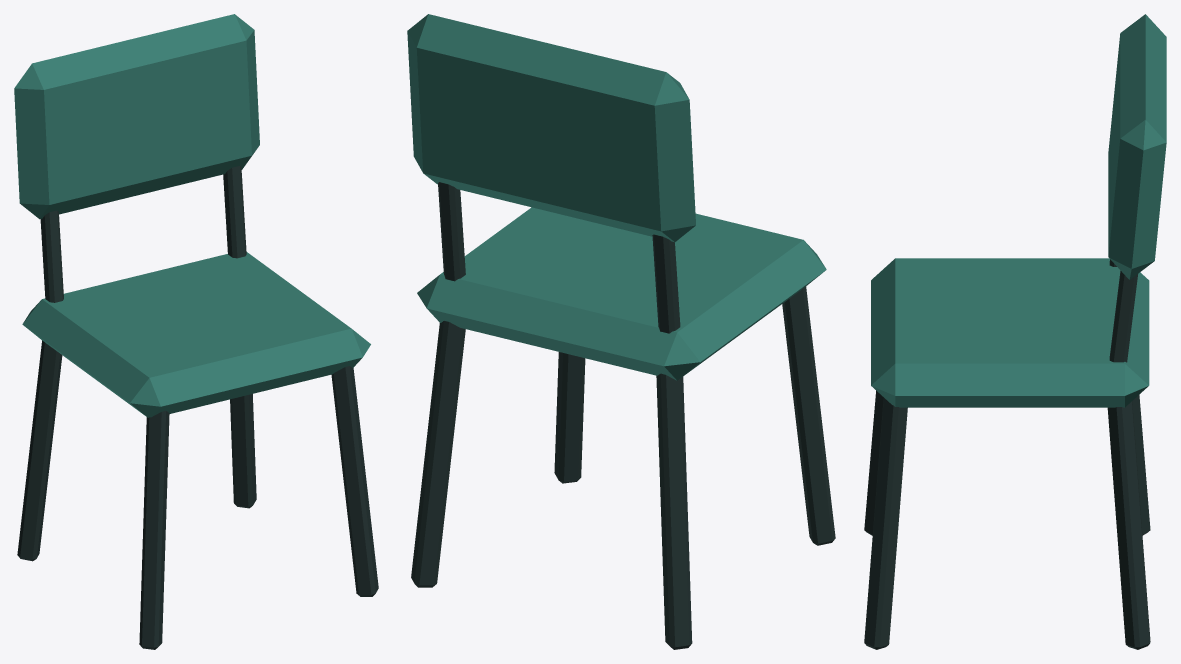
The model's file is student_chair.glb.
The picture shows the model from 3 angles, left to right: view 1: azimuth 30°, elevation 25°; view 2: azimuth 150°, elevation 25°; view 3: azimuth 270°, elevation 25°; orthographic projection. The views are drawn at different scales.
Parts seen in each view (by area): view 1: Encosto, Assento, Pé tubular.004, Pé tubular.006, Pé tubular.005, Pé tubular.007, Suporte do encosto.001, Suporte do encosto; view 2: Encosto, Assento, Pé tubular.005, Pé tubular.007, Pé tubular.004, Pé tubular.006, Suporte do encosto, Suporte do encosto.001; view 3: Assento, Encosto, Pé tubular.006, Pé tubular.007, Suporte do encosto.001, Pé tubular.004, Pé tubular.005.
Boxes of the visible parts, <box> form: Encosto: <box>14,14,259,219</box>; Assento: <box>22,252,370,417</box>; Pé tubular.004: <box>139,410,169,649</box>; Pé tubular.006: <box>331,366,378,596</box>; Pé tubular.005: <box>17,340,62,561</box>; Pé tubular.007: <box>230,394,256,508</box>; Suporte do encosto.001: <box>223,166,246,258</box>; Suporte do encosto: <box>40,210,63,302</box>; Encosto: <box>407,14,695,242</box>; Assento: <box>417,207,826,380</box>; Pé tubular.005: <box>656,373,692,649</box>; Pé tubular.007: <box>411,321,465,587</box>; Pé tubular.004: <box>782,286,835,545</box>; Pé tubular.006: <box>554,352,585,483</box>; Suporte do encosto: <box>652,234,680,333</box>; Suporte do encosto.001: <box>438,182,465,281</box>; Assento: <box>871,258,1149,407</box>; Encosto: <box>1108,14,1166,279</box>; Pé tubular.006: <box>864,397,907,649</box>; Pé tubular.007: <box>1107,401,1150,649</box>; Suporte do encosto.001: <box>1109,270,1137,362</box>; Pé tubular.004: <box>864,390,883,535</box>; Pé tubular.005: <box>1132,395,1150,535</box>.
Bounding box in the file's own units: 0.46 × 0.8931 × 0.4672.
